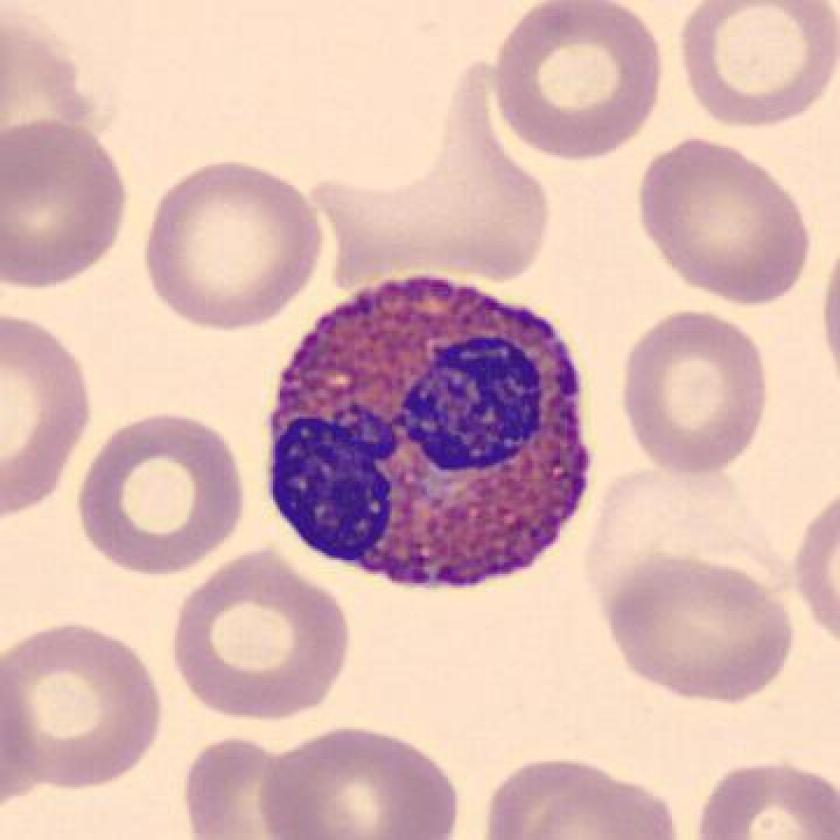eosinophil: (251, 265, 601, 614)
